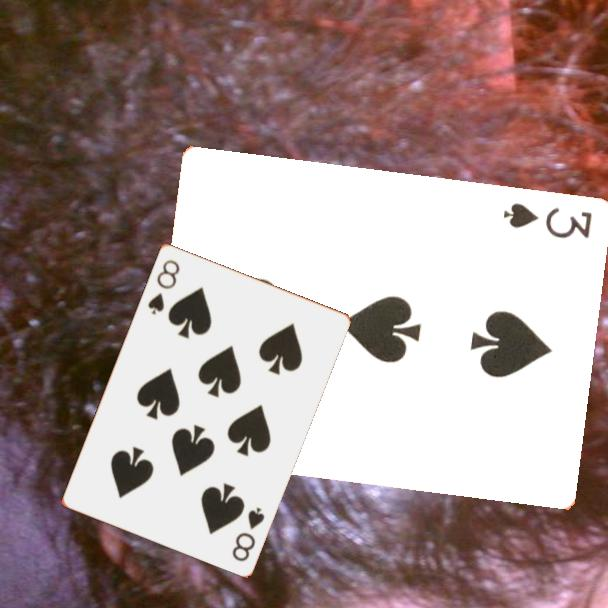s03: (499, 200, 595, 242)
s08: (228, 503, 268, 564), (144, 256, 183, 317)
